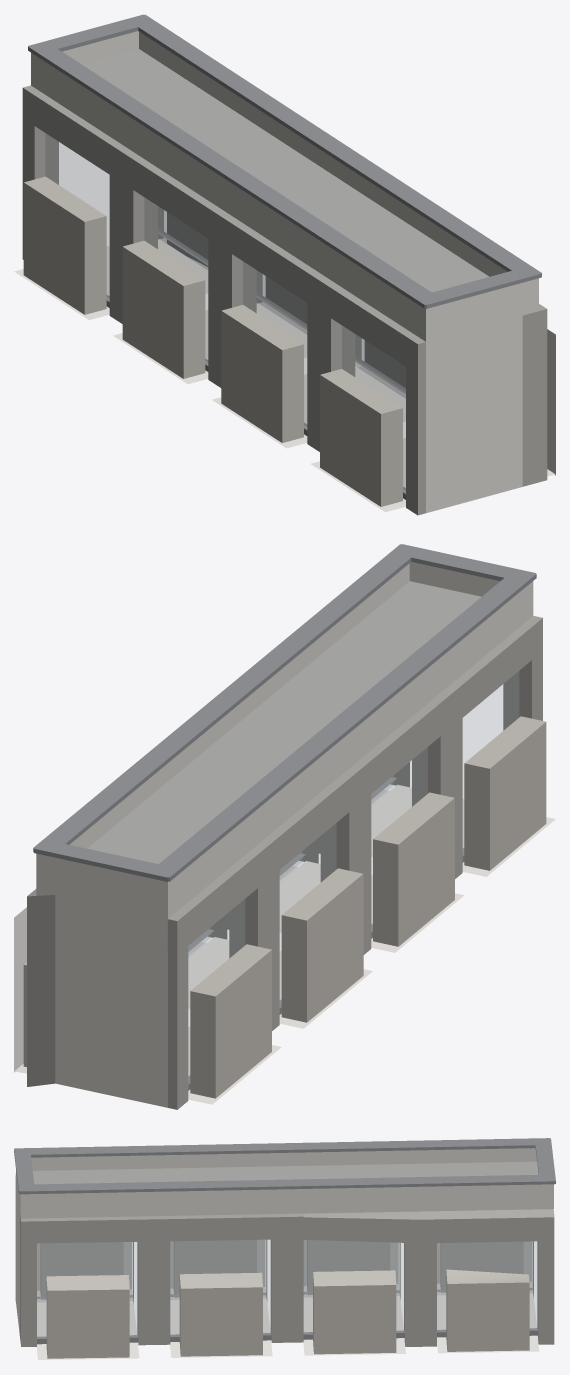
The model's file is d12-bldg-w355252207-inferred.glb.
3 views of the same model, one above another, from view 1: azimuth 30°, elevation 25°; view 2: azimuth 150°, elevation 25°; view 3: azimuth 270°, elevation 25° (orthographic). The views are drawn at different scales.
Visible parts, largest first — view 1: INFERRED_ground.001; view 2: INFERRED_ground.001; view 3: INFERRED_ground.001.
Part boxes in pixels (x1,y1,x2,y2): INFERRED_ground.001: [14, 14, 555, 515]; INFERRED_ground.001: [14, 544, 555, 1109]; INFERRED_ground.001: [14, 1138, 555, 1359].
Size of the model in its own units: 3.65 by 3.76 by 11.4.
3 materials, 1 textured.
